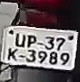3: (45, 33, 57, 50), (25, 48, 37, 64)
7: (56, 36, 65, 52)
8: (48, 51, 58, 66)
9: (37, 48, 47, 66), (60, 51, 71, 67)
K: (7, 48, 17, 61)
P: (26, 32, 36, 48)
U: (13, 31, 26, 49)
